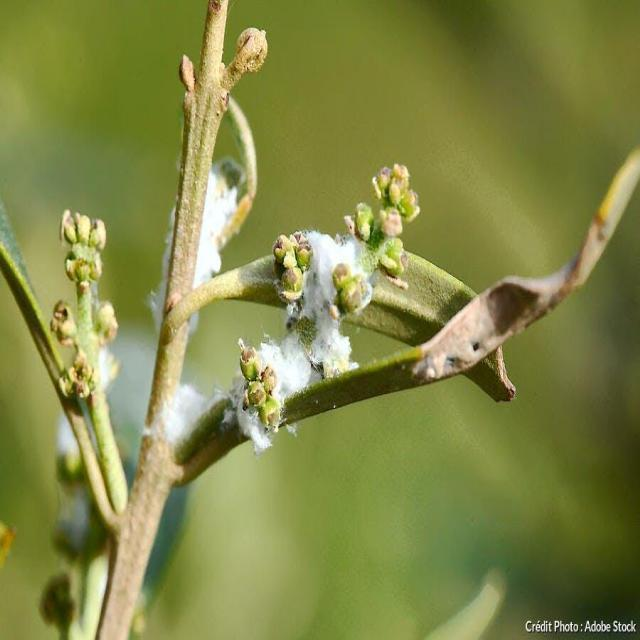Psyllid: (235, 164, 420, 453), (193, 104, 256, 286), (167, 382, 246, 486), (151, 206, 174, 332)
